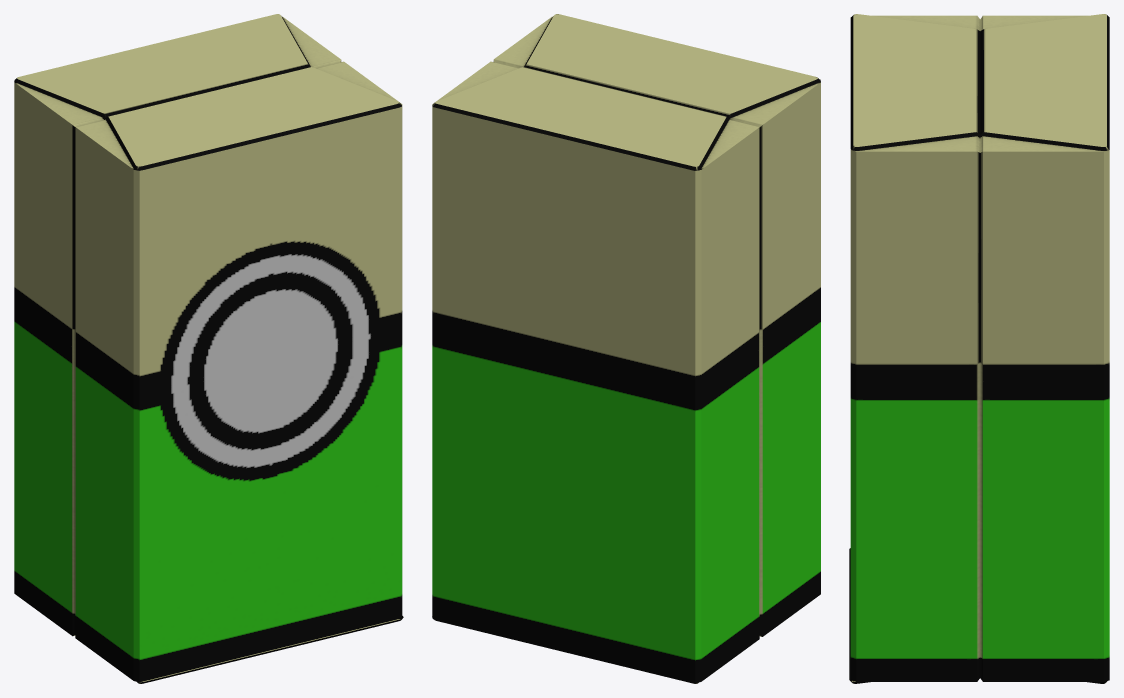
File: juice_box.glb
3 renders of one model, left to right at view 1: azimuth 30°, elevation 25°; view 2: azimuth 150°, elevation 25°; view 3: azimuth 270°, elevation 25°, orthographic. The views are drawn at different scales.
Visible parts, largest first — view 1: Juicebox_Target; view 2: Juicebox_Target; view 3: Juicebox_Target.
Boxes of the visible parts, x1,y1,x2,y2 form: Juicebox_Target: (14, 14, 403, 683); Juicebox_Target: (432, 14, 820, 683); Juicebox_Target: (849, 14, 1109, 683).
Bounding box in the file's own units: 0.0903 × 0.166 × 0.0731.
1 material, 1 textured.
